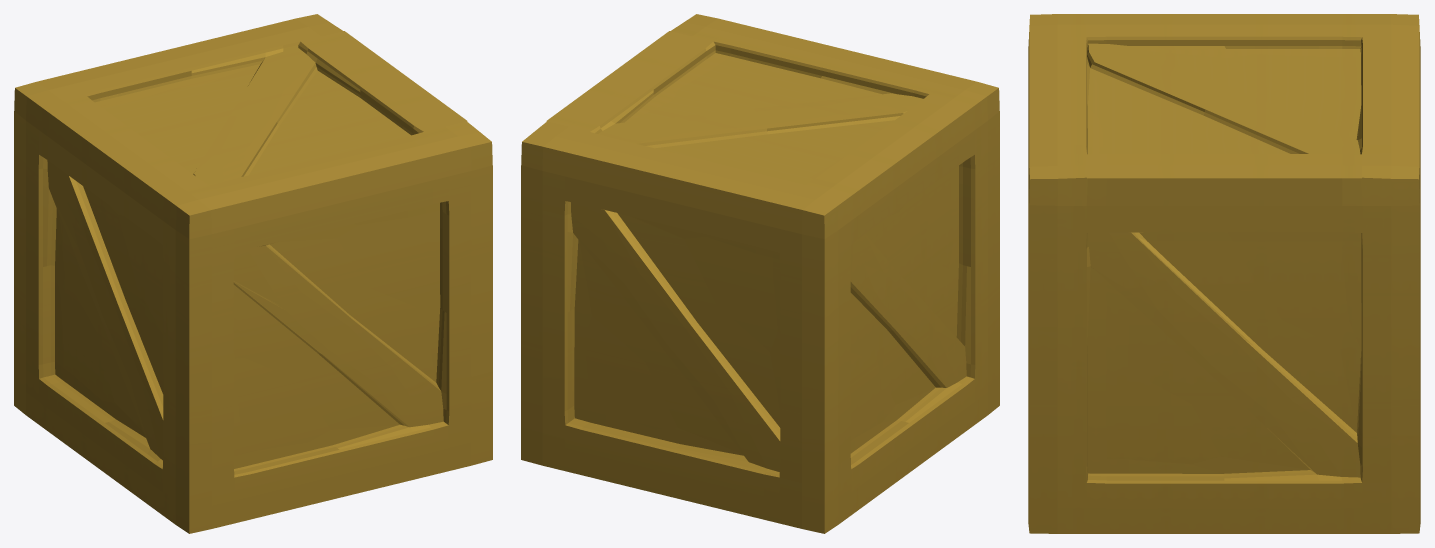
Rendered from Caja.fbx.
3 views of the same model, side by side, from view 1: azimuth 30°, elevation 25°; view 2: azimuth 150°, elevation 25°; view 3: azimuth 270°, elevation 25° (orthographic). The views are drawn at different scales.
Parts seen in each view (by area): view 1: Box; view 2: Box; view 3: Box.
Boxes of the visible parts, box(x1,y1,x2,y2) form: Box: box(14, 14, 492, 533); Box: box(521, 14, 999, 533); Box: box(1028, 14, 1420, 533).
Size of the model in its own units: 160 by 160 by 160.
